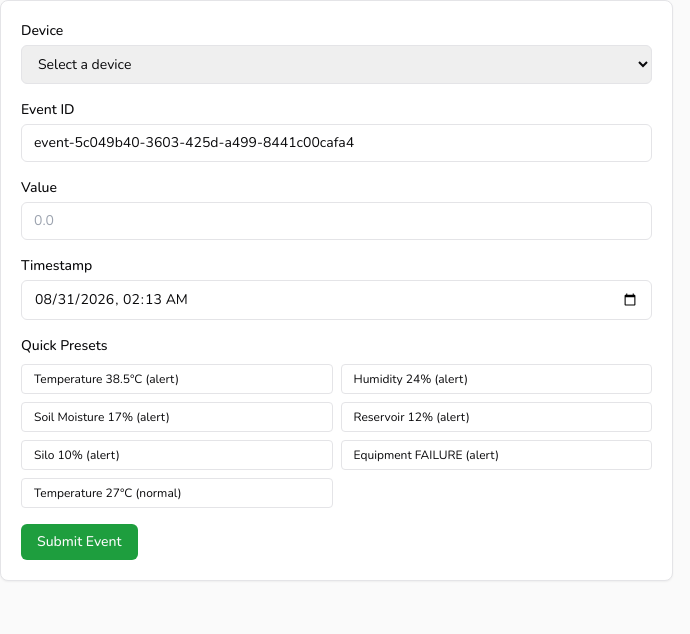
it: SimulatorForm › disables submit button while mutation is pending
Select "Temp Sensor (sensor-temp-01)" in the dropdown labelled "Device" at (336, 64), box [21,45,652,84]
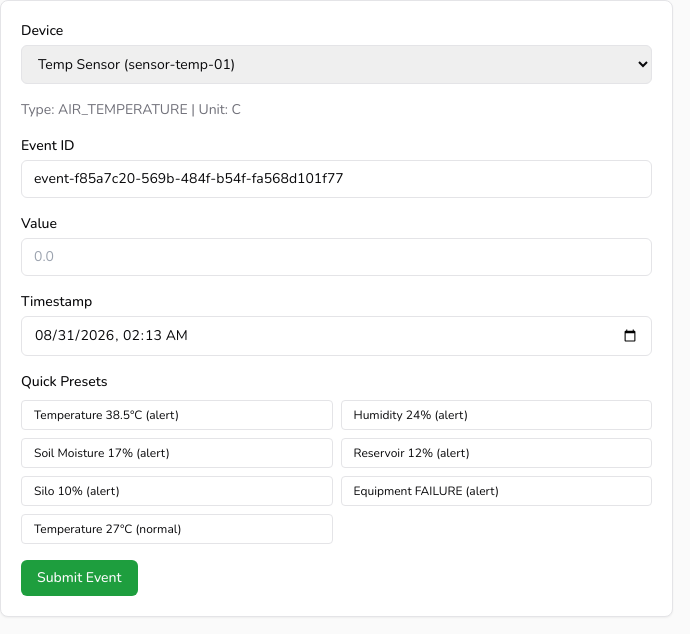
Type "25" into the number field labelled "Value" at (336, 257), box [21,238,652,276]
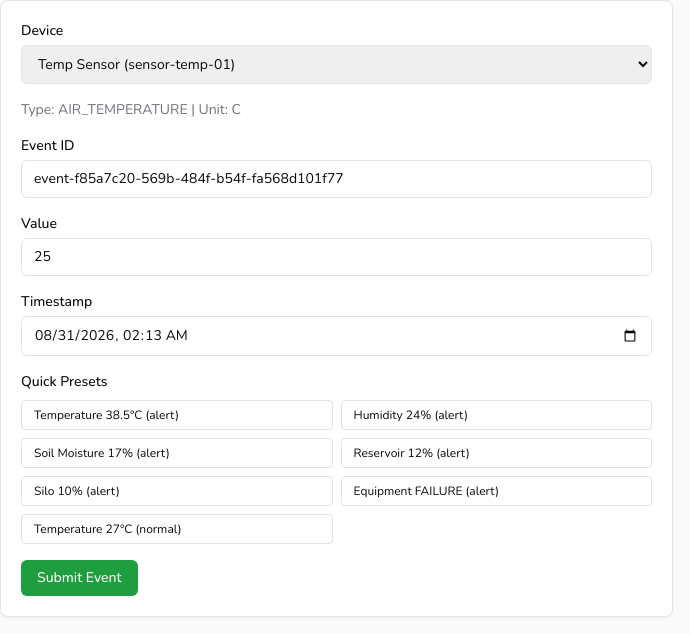
Click the button "Submit Event" at (79, 578), box [21,560,138,596]
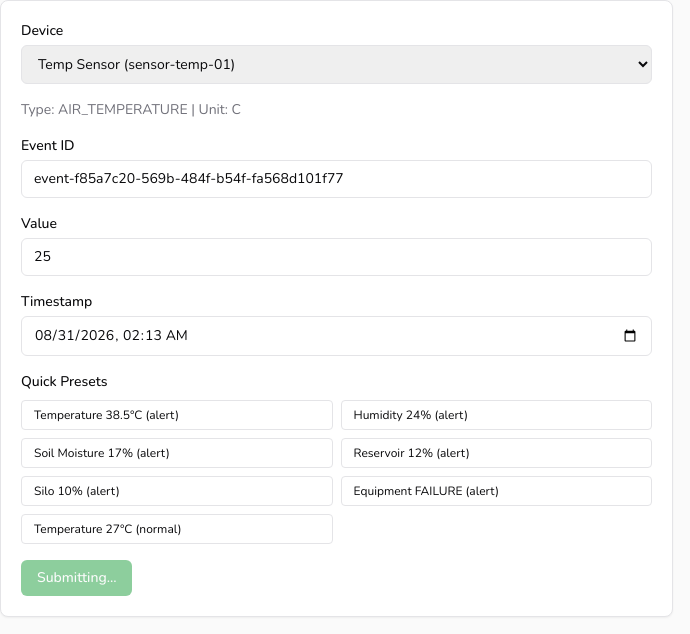
expect the button "Submitting…" is disabled: met, box [21,560,132,596]
